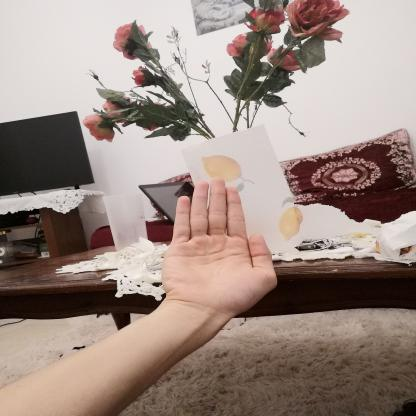SEEN: (155, 168, 286, 326)
